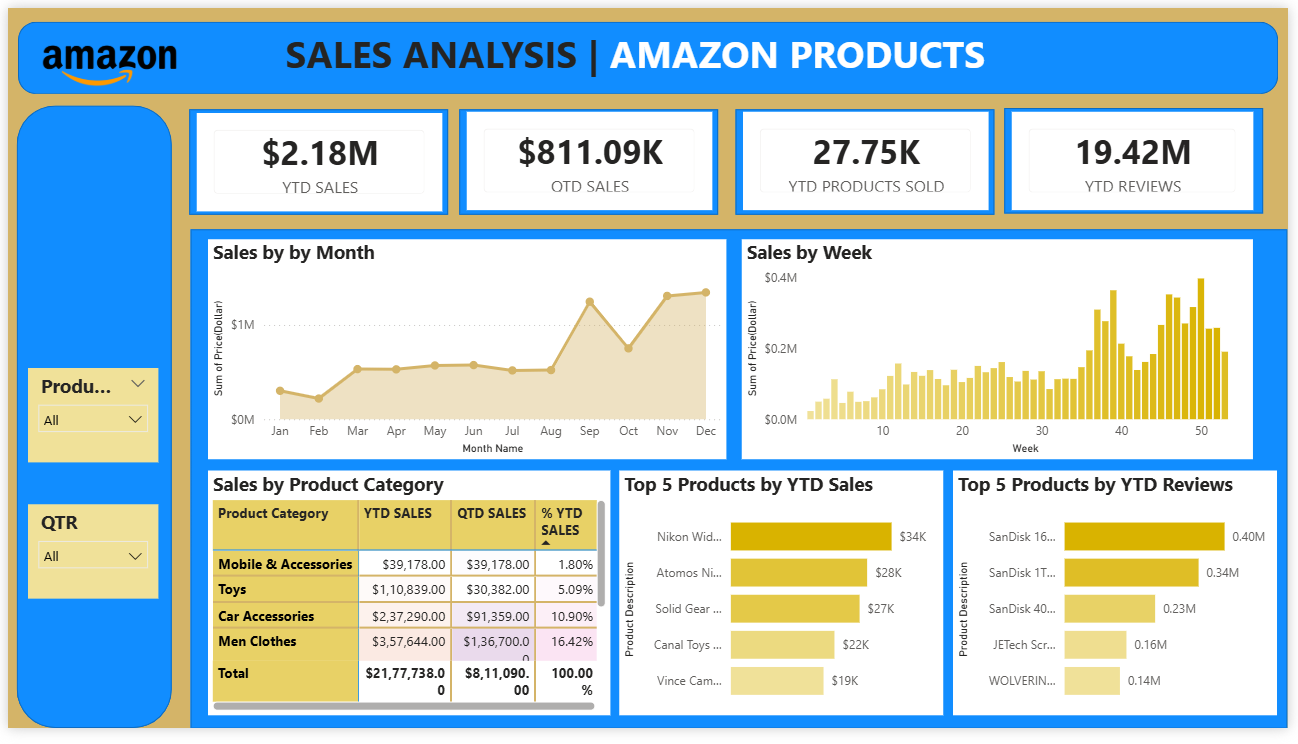

This screenshot's page, from the dashboard's own definition file:
{"tool":"powerbi","page":{"name":"Page 1","canvas":[1280,720],"ordinal":0},"visuals":[{"type":"shape","box":[9.8,13.5,1260.1,72.4],"z":0},{"type":"shape","box":[996.3,99.4,258.9,105.5],"z":0,"group":"g2"},{"type":"shape","box":[181.6,100.6,258.9,105.5],"z":0,"group":"g1"},{"type":"textbox","box":[273.1,15.1,731.4,63.1],"z":1000},{"type":"cardVisual","fields":{"Data":["Amazon_Data.YTD REVIEWS"]},"box":[1003.7,103.1,241.7,98.2],"z":1000,"group":"g2"},{"type":"cardVisual","fields":{"Data":["Amazon_Data.YTD SALES"]},"box":[189,104.3,245.4,98.2],"z":1000,"group":"g1"},{"type":"shape","box":[8.8,98.8,155,621.2],"z":2000},{"type":"group","id":"g1","title":"Group 1","box":[181.6,100.6,804.9,105.5],"z":2000,"group":"g2"},{"type":"shape","box":[451.5,100.6,258.9,105.5],"z":2000,"group":"g1"},{"type":"shape","box":[8.8,97.5,155,622.5],"z":3000},{"type":"shape","box":[727.6,100.6,258.9,105.5],"z":3000,"group":"g1"},{"type":"group","id":"g2","title":"Group 2","box":[181.6,99.4,1073.6,106.7],"z":4000},{"type":"cardVisual","fields":{"Data":["Amazon_Data.YTD SALES"]},"box":[458.9,103.1,245.4,98.2],"z":4000,"group":"g1"},{"type":"cardVisual","fields":{"Data":["Amazon_Data.YTD PRODUCTS SOLD"]},"box":[735,103.1,245.4,98.2],"z":5000,"group":"g1"},{"type":"shape","box":[182.8,220.9,1096.9,499.4],"z":5000},{"type":"areaChart","title":"Sales by by Month","fields":{"Category":["Date Table.Month Name"],"Y":["Sum(Amazon_Data.Price(Dollar))"]},"box":[200,231.4,518.6,220],"z":6000},{"type":"columnChart","title":"Sales by Week","fields":{"Category":["Date Table.Week"],"Y":["Sum(Amazon_Data.Price(Dollar))"]},"box":[734.3,231.4,511.4,220],"z":7000},{"type":"pivotTable","title":"Sales by Product Category","fields":{"Rows":["Amazon_Data.Product Category"],"Values":["Amazon_Data.YTD SALES1","Amazon_Data.QTD SALES","Amazon_Data.YTD SALES"]},"box":[200,462.5,402.5,245],"z":8000},{"type":"clusteredBarChart","title":"Top 5 Products by YTD Sales","fields":{"Category":["Amazon_Data.Product Description"],"Y":["Amazon_Data.YTD SALES"]},"box":[611.2,462.5,323.8,245],"z":9000},{"type":"clusteredBarChart","title":"Top 5 Products by YTD Reviews","fields":{"Category":["Amazon_Data.Product Description"],"Y":["Amazon_Data.YTD REVIEWS"]},"box":[945,462.5,323.8,245],"z":10000},{"type":"slicer","fields":{"Values":["Amazon_Data.Product Category"]},"box":[20,360,130,94.4],"z":11000},{"type":"slicer","fields":{"Values":["Date Table.QTR"]},"box":[20,496.7,130,94.4],"z":12000},{"type":"image","box":[0,0,203.7,115.3],"z":13000}]}

Visuals, with their boxes in screenshot pixels (x1, y1, x2, y2), scaled from the page's 1280x720 canvas onto the 1298x744 screenshot:
shape: x1=10 y1=14 x2=1288 y2=89
shape: x1=1010 y1=103 x2=1273 y2=212
shape: x1=184 y1=104 x2=447 y2=213
textbox: x1=277 y1=16 x2=1019 y2=81
cardVisual - Amazon_Data.YTD REVIEWS: x1=1018 y1=107 x2=1263 y2=208
cardVisual - Amazon_Data.YTD SALES: x1=192 y1=108 x2=441 y2=209
shape: x1=9 y1=102 x2=166 y2=743
"Group 1" group: x1=184 y1=104 x2=1000 y2=213
shape: x1=458 y1=104 x2=720 y2=213
shape: x1=9 y1=101 x2=166 y2=743
shape: x1=738 y1=104 x2=1000 y2=213
"Group 2" group: x1=184 y1=103 x2=1273 y2=213
cardVisual - Amazon_Data.YTD SALES: x1=465 y1=107 x2=714 y2=208
cardVisual - Amazon_Data.YTD PRODUCTS SOLD: x1=745 y1=107 x2=994 y2=208
shape: x1=185 y1=228 x2=1297 y2=743
"Sales by by Month" areaChart: x1=203 y1=239 x2=729 y2=466
"Sales by Week" columnChart: x1=745 y1=239 x2=1263 y2=466
"Sales by Product Category" pivotTable: x1=203 y1=478 x2=611 y2=731
"Top 5 Products by YTD Sales" clusteredBarChart: x1=620 y1=478 x2=948 y2=731
"Top 5 Products by YTD Reviews" clusteredBarChart: x1=958 y1=478 x2=1287 y2=731
slicer - Amazon_Data.Product Category: x1=20 y1=372 x2=152 y2=470
slicer - Date Table.QTR: x1=20 y1=513 x2=152 y2=611
image: x1=0 y1=0 x2=207 y2=119
